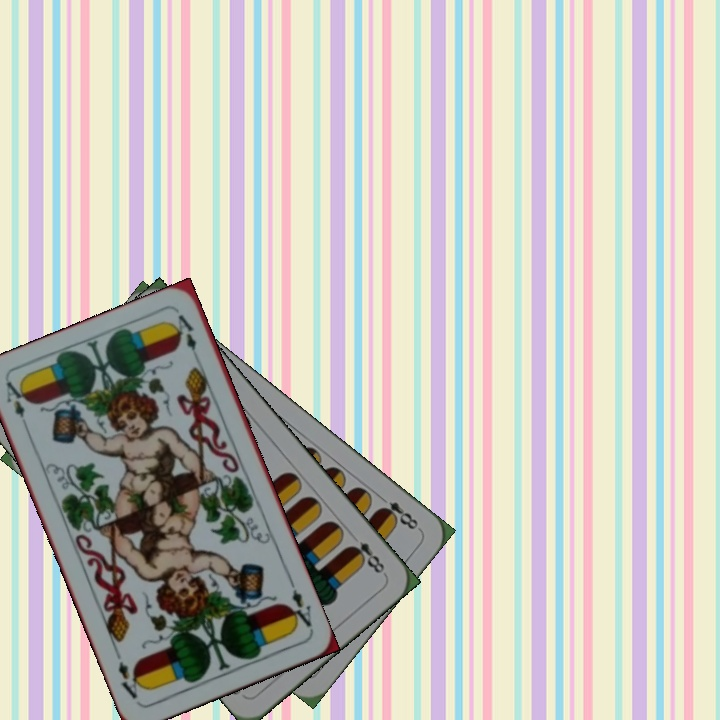E8: (374, 490, 421, 532), (344, 537, 389, 578)
EA: (283, 576, 316, 633), (1, 377, 30, 420)
